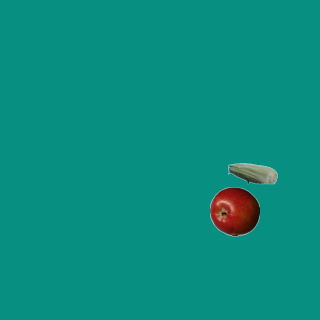Apple Braeburn: (209, 186, 259, 236)
Corn Husk: (227, 148, 277, 198)
